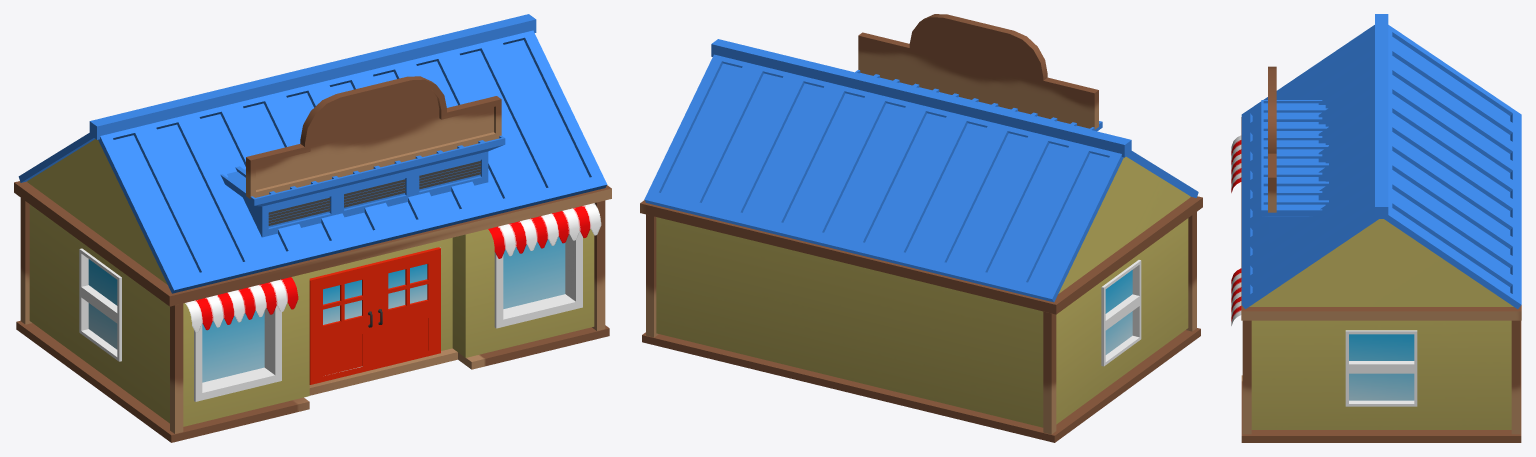
File: house3.glb
The picture shows the model from 3 angles, left to right: view 1: azimuth 30°, elevation 25°; view 2: azimuth 150°, elevation 25°; view 3: azimuth 270°, elevation 25°; orthographic projection. The views are drawn at different scales.
Visible parts, largest first — view 1: house3, Cube.009, Cube.004, parasol; view 2: house3; view 3: house3, parasol.
Boxes of the visible parts, x1,y1,x2,y2 form: house3: (14,14,611,442); Cube.009: (309,263,375,384); Cube.004: (373,247,440,368); parasol: (185,203,601,332); house3: (640,14,1202,442); house3: (1241,14,1521,442); parasol: (1231,135,1241,325).
Bounding box in the file's own units: 6.7 × 4.2 × 4.23.
Materials: 1 (1 with a texture image).
